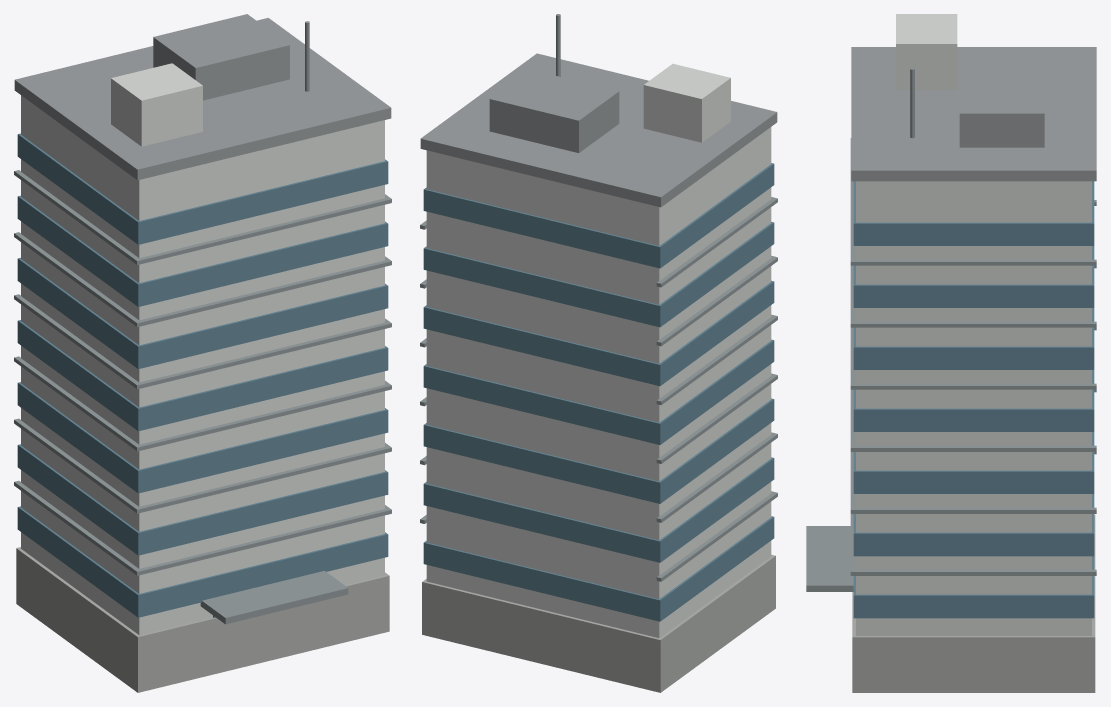
The model's file is building_office_a.glb.
The picture shows the model from 3 angles, left to right: view 1: azimuth 30°, elevation 25°; view 2: azimuth 150°, elevation 25°; view 3: azimuth 270°, elevation 25°; orthographic projection. The views are drawn at different scales.
Parts seen in each view (by area): view 1: fm_office_body, fm_office_parapet, fm_office_base, fm_office_band_1, fm_office_band_6, fm_office_band_2, fm_office_band_5, fm_office_band_4, fm_office_band_3, fm_office_band_0, fm_office_unit, fm_office_stair (+13 smaller); view 2: fm_office_body, fm_office_parapet, fm_office_base, fm_office_band_4, fm_office_band_5, fm_office_band_6, fm_office_band_0, fm_office_band_2, fm_office_band_3, fm_office_band_1, fm_office_unit, fm_office_stair (+6 smaller); view 3: fm_office_body, fm_office_parapet, fm_office_base, fm_office_unit, fm_office_band_0, fm_office_band_1, fm_office_band_6, fm_office_band_3, fm_office_band_4, fm_office_band_5, fm_office_band_2, fm_office_stair (+8 smaller).
Part boxes in pixels (<box>): fm_office_body: <box>21,95,384,635</box>; fm_office_parapet: <box>14,18,391,180</box>; fm_office_base: <box>16,547,389,692</box>; fm_office_band_1: <box>17,444,388,555</box>; fm_office_band_6: <box>17,133,388,244</box>; fm_office_band_2: <box>17,382,388,493</box>; fm_office_band_5: <box>17,195,388,306</box>; fm_office_band_4: <box>17,257,388,368</box>; fm_office_band_3: <box>17,320,388,431</box>; fm_office_band_0: <box>17,506,388,617</box>; fm_office_unit: <box>153,14,289,100</box>; fm_office_stair: <box>111,63,202,146</box>; fm_office_body: <box>426,127,771,638</box>; fm_office_parapet: <box>420,53,777,207</box>; fm_office_base: <box>422,554,775,692</box>; fm_office_band_4: <box>423,280,774,386</box>; fm_office_band_5: <box>423,222,774,327</box>; fm_office_band_6: <box>423,163,774,268</box>; fm_office_band_0: <box>423,516,774,621</box>; fm_office_band_2: <box>423,398,774,503</box>; fm_office_band_3: <box>423,339,774,444</box>; fm_office_band_1: <box>423,457,774,562</box>; fm_office_unit: <box>489,69,619,152</box>; fm_office_stair: <box>643,63,730,142</box>; fm_office_body: <box>856,181,1091,635</box>; fm_office_parapet: <box>851,47,1096,181</box>; fm_office_base: <box>852,514,1095,692</box>; fm_office_unit: <box>959,67,1044,147</box>; fm_office_band_0: <box>853,556,1094,618</box>; fm_office_band_1: <box>853,494,1094,556</box>; fm_office_band_6: <box>853,181,1094,245</box>; fm_office_band_3: <box>853,370,1094,431</box>; fm_office_band_4: <box>853,308,1094,369</box>; fm_office_band_5: <box>853,246,1094,307</box>; fm_office_band_2: <box>853,432,1094,493</box>; fm_office_stair: <box>896,14,957,89</box>.
Bounding box in the file's own units: 12.44 × 28 × 12.3.
